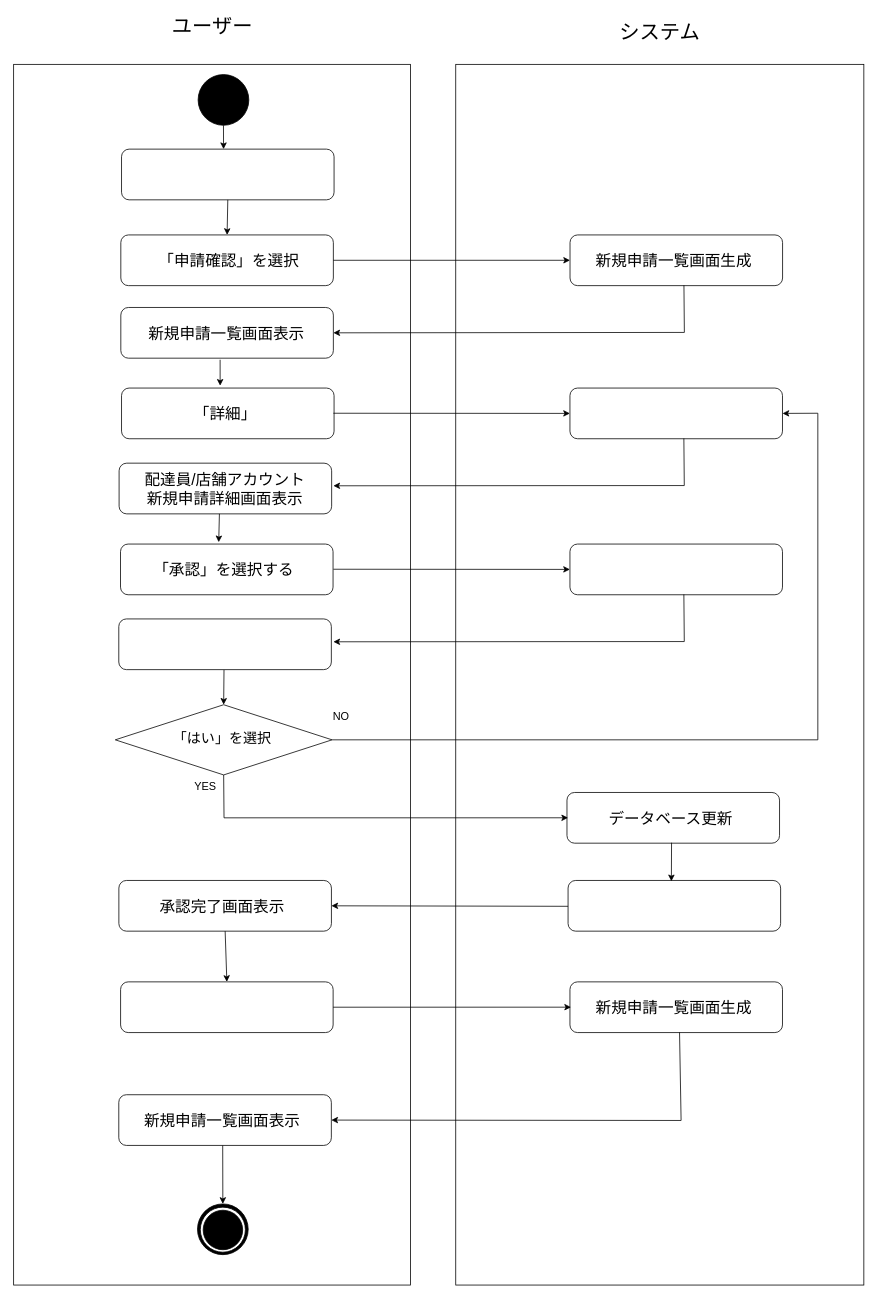
This 877x1299 diagram has some shape labels left out. The centre of each missing label's shape, as x and y in pixels:
"「戻る」を選択する" belongs at pixel 226 1007.
"承認完了画面生成" belongs at pixel 674 905.
"承認確定確認画面生成" belongs at pixel 675 569.
"承認確定確認画面表示" belongs at pixel 224 644.
"配達員/店舗アカウント 一覧画面表示" belongs at pixel 227 174.
"配達員/店舗アカウント 新規申請詳細画面生成" belongs at pixel 675 413.
